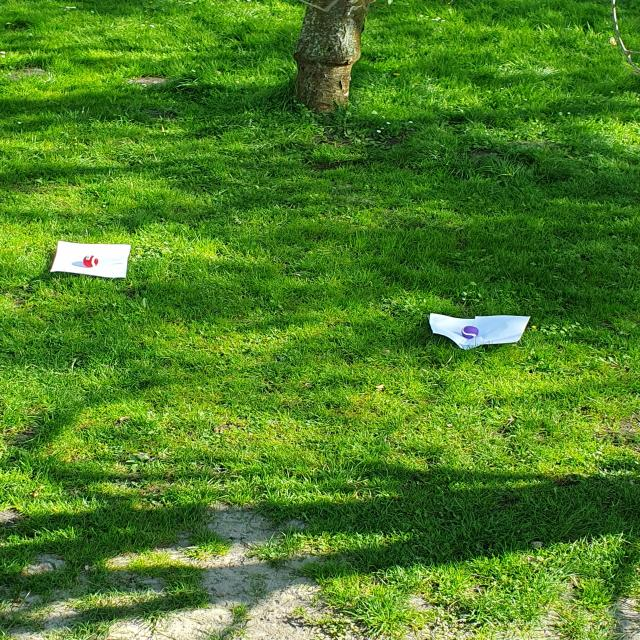purple: (461, 326, 479, 338)
red: (83, 255, 98, 267)
